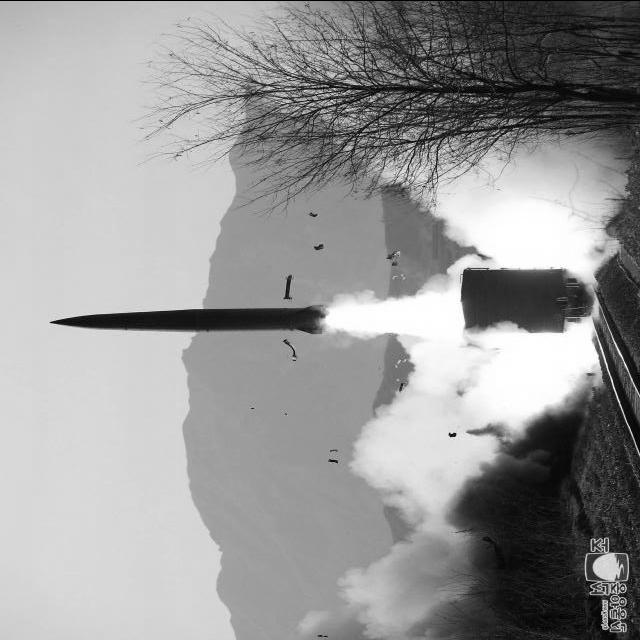Missile: (37, 301, 336, 339)
